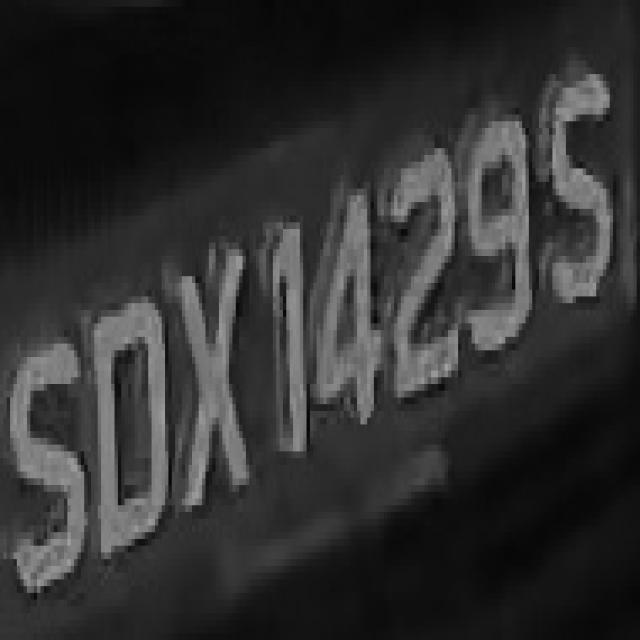1: (263, 175, 320, 478)
2: (377, 142, 472, 418)
4: (303, 175, 391, 458)
9: (455, 101, 539, 357)
D: (81, 276, 172, 566)
S: (542, 40, 623, 344), (4, 323, 84, 600)
X: (158, 243, 270, 512)
